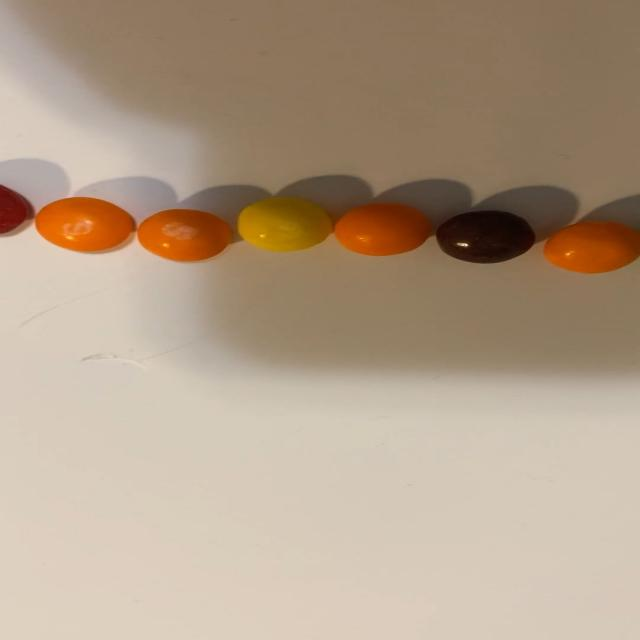smartie: (33, 197, 132, 252), (436, 210, 536, 263), (237, 197, 332, 251), (334, 203, 430, 256), (544, 222, 640, 273), (137, 209, 229, 261)
